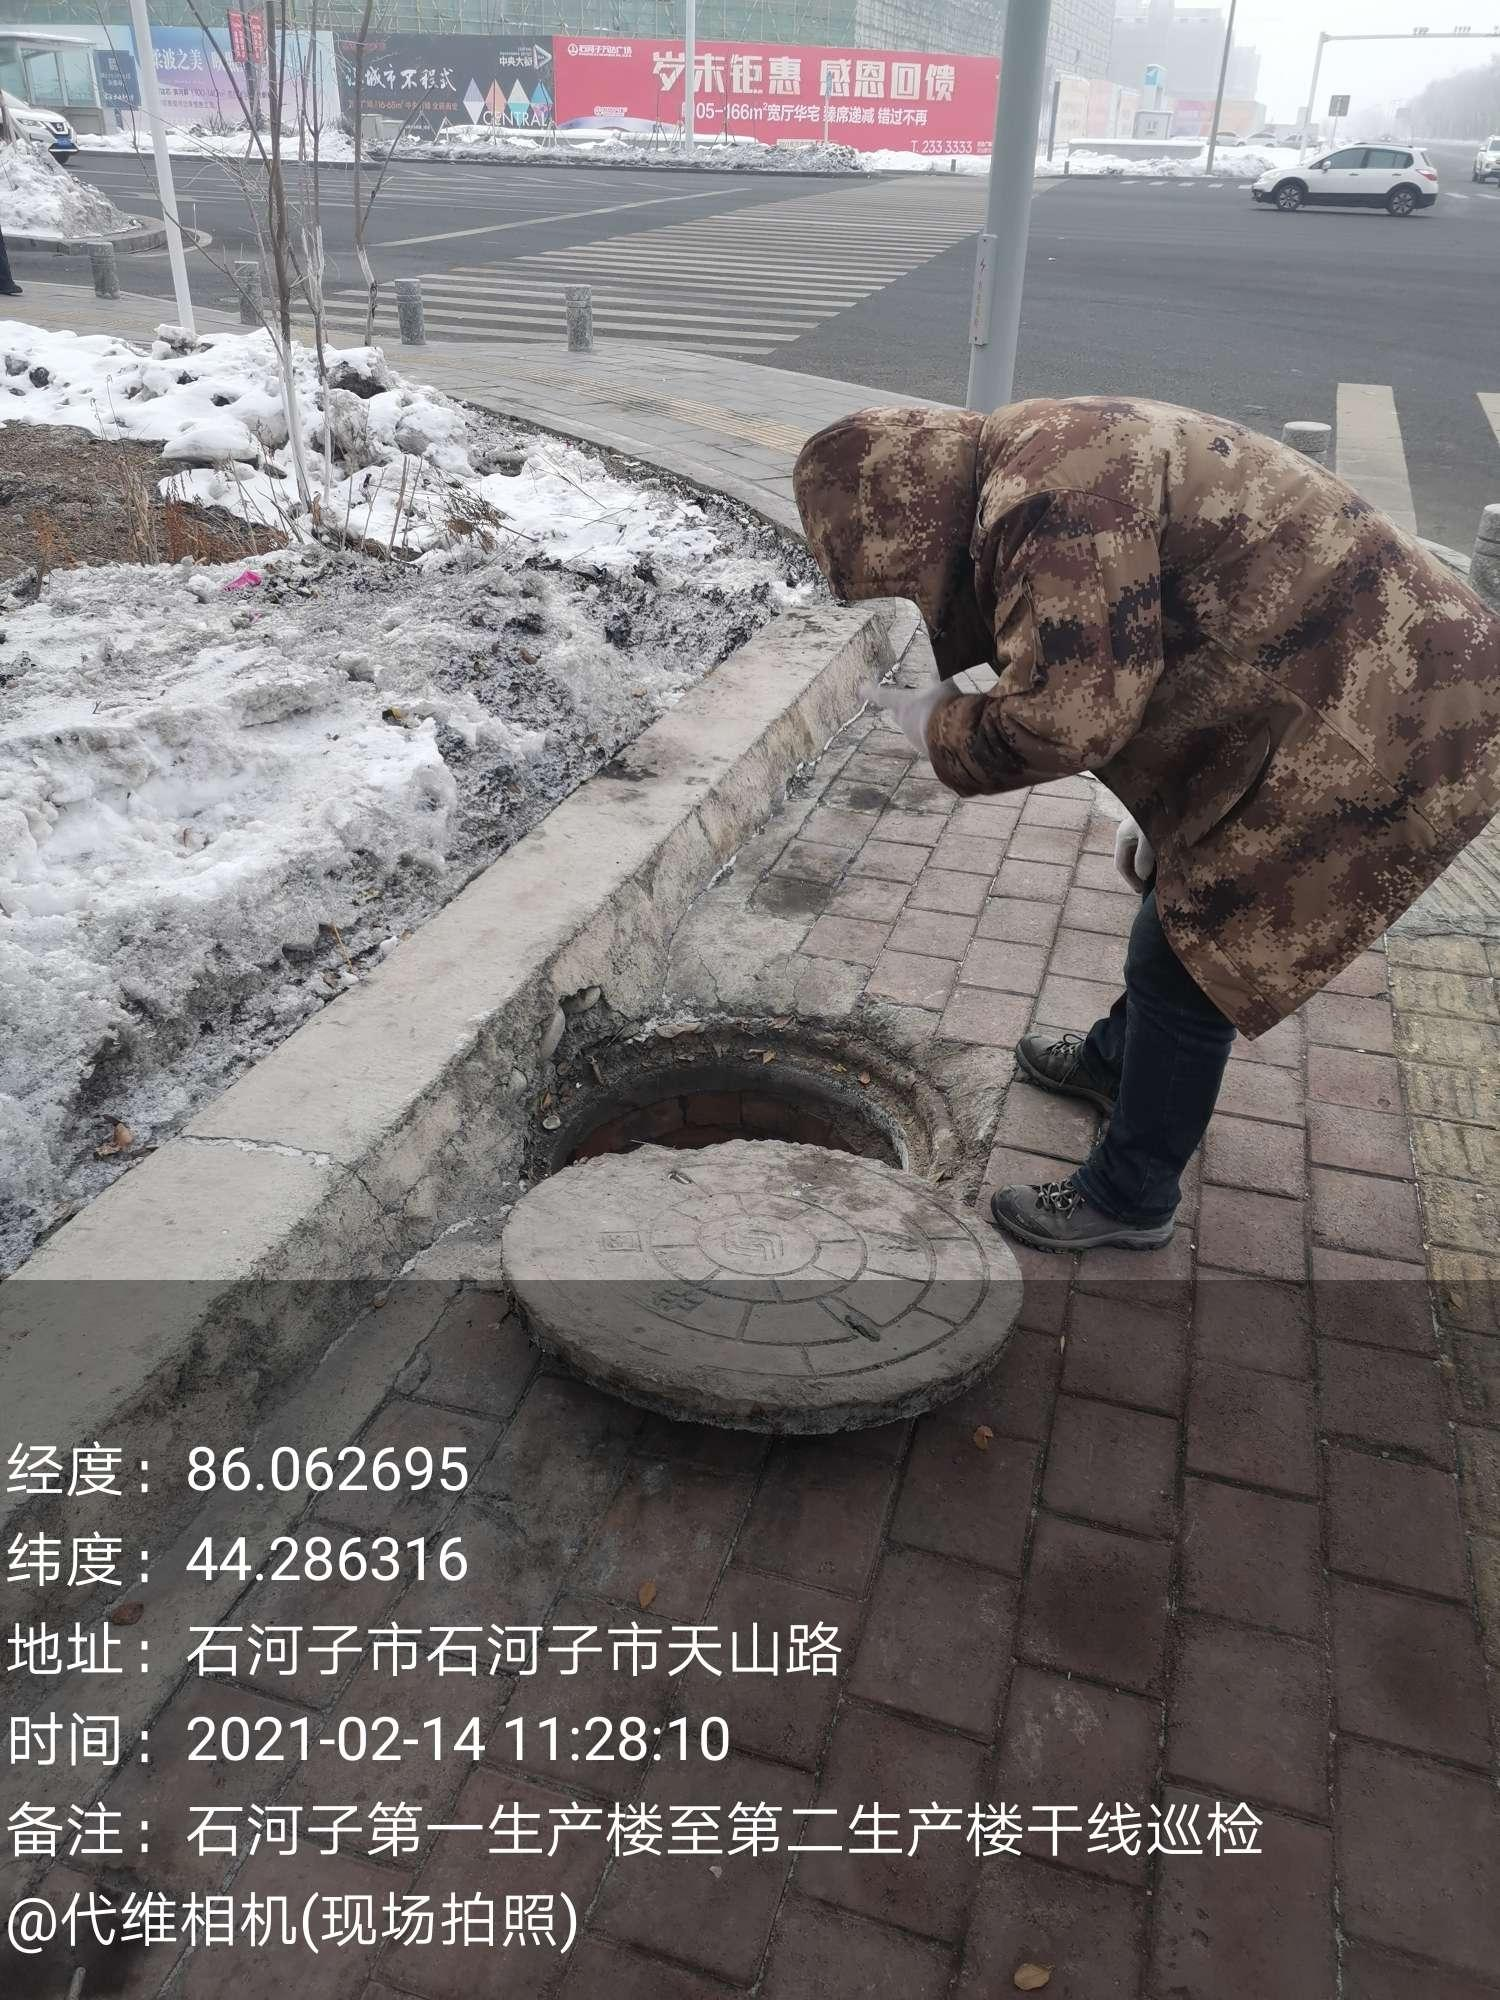wellcover: (438, 984, 1034, 1449)
